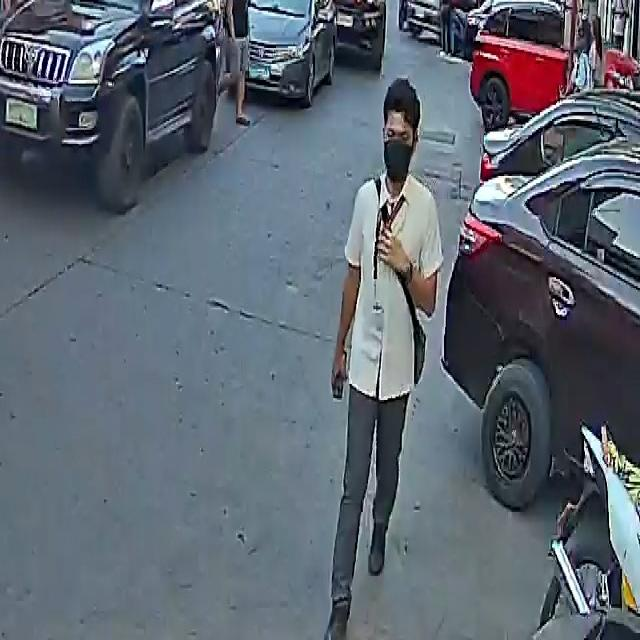car: (445, 86, 640, 525), (0, 0, 243, 208), (466, 0, 604, 128), (241, 0, 339, 105), (319, 0, 393, 64), (405, 0, 486, 46)
